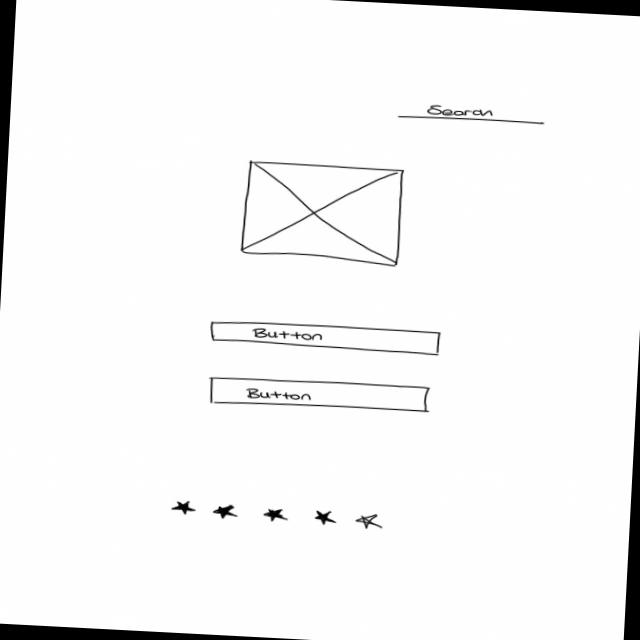button: (206, 373, 432, 417), (208, 318, 443, 358)
image: (238, 158, 405, 268)
input: (396, 100, 546, 127)
